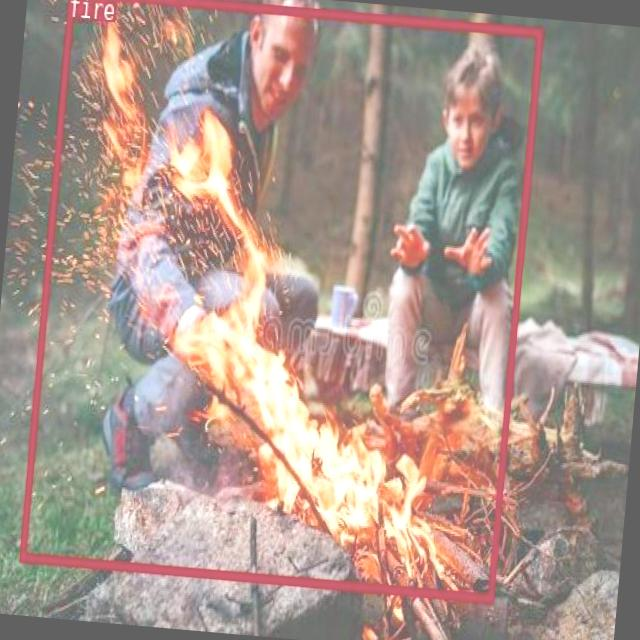fire: (17, 0, 541, 601)
